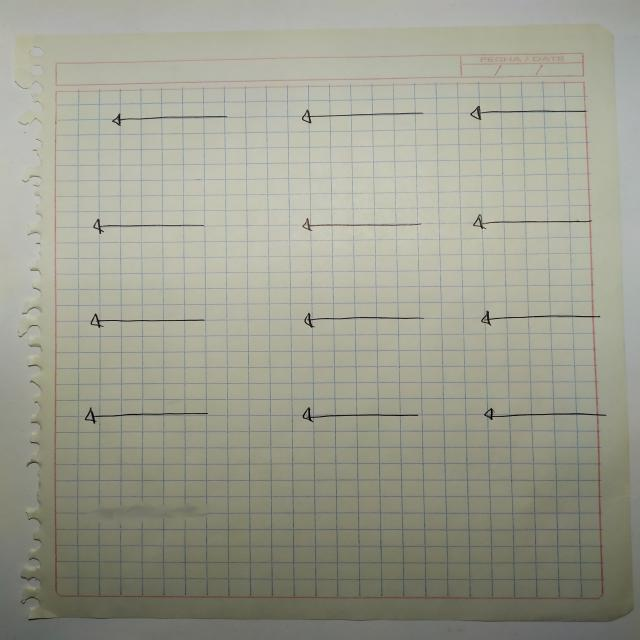arrow_line_left: (463, 207, 602, 238), (285, 212, 438, 240), (290, 401, 432, 430), (78, 308, 215, 338), (74, 401, 219, 429), (468, 306, 612, 332), (101, 107, 242, 133), (84, 213, 223, 239), (474, 401, 613, 427), (289, 310, 440, 333), (292, 104, 432, 128), (460, 102, 600, 126)
